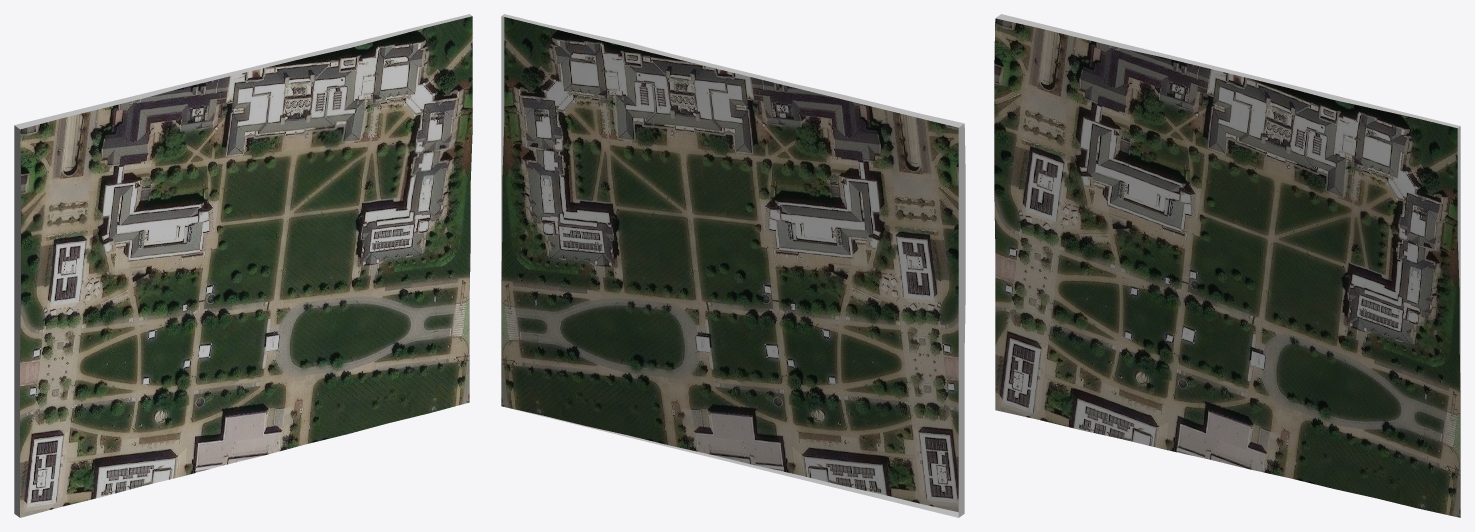
The model's file is campus_terrain.obj.
3 views of the same model, side by side, from view 1: azimuth 30°, elevation 25°; view 2: azimuth 150°, elevation 25°; view 3: azimuth 330°, elevation 25° (orthographic).
Parts seen in each view (by area): view 1: Terrain.001; view 2: Terrain.001; view 3: Terrain.001.
Part boxes in pixels (bbox=[...]): Terrain.001: bbox=[14, 14, 472, 517]; Terrain.001: bbox=[501, 14, 965, 517]; Terrain.001: bbox=[994, 14, 1460, 517].
Size of the model in its own units: 266 by 216 by 7.
